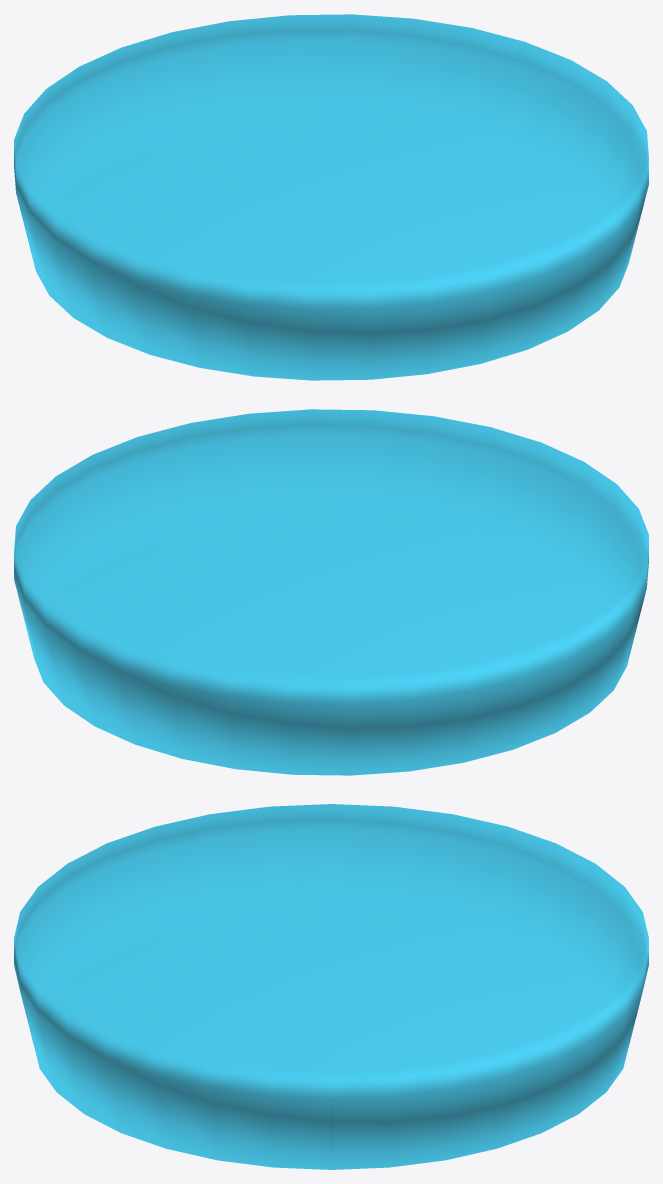
Rendered from water.fbx.
3 renders of one model, top to bottom at view 1: azimuth 30°, elevation 25°; view 2: azimuth 150°, elevation 25°; view 3: azimuth 270°, elevation 25°, orthographic.
Parts seen in each view (by area): view 1: water; view 2: water; view 3: water.
Part boxes in pixels (box(x1,y1,x2,y2)): water: box(14, 14, 648, 380); water: box(14, 409, 648, 775); water: box(14, 804, 648, 1169).
Bounding box in the file's own units: 165 × 30.43 × 165.
